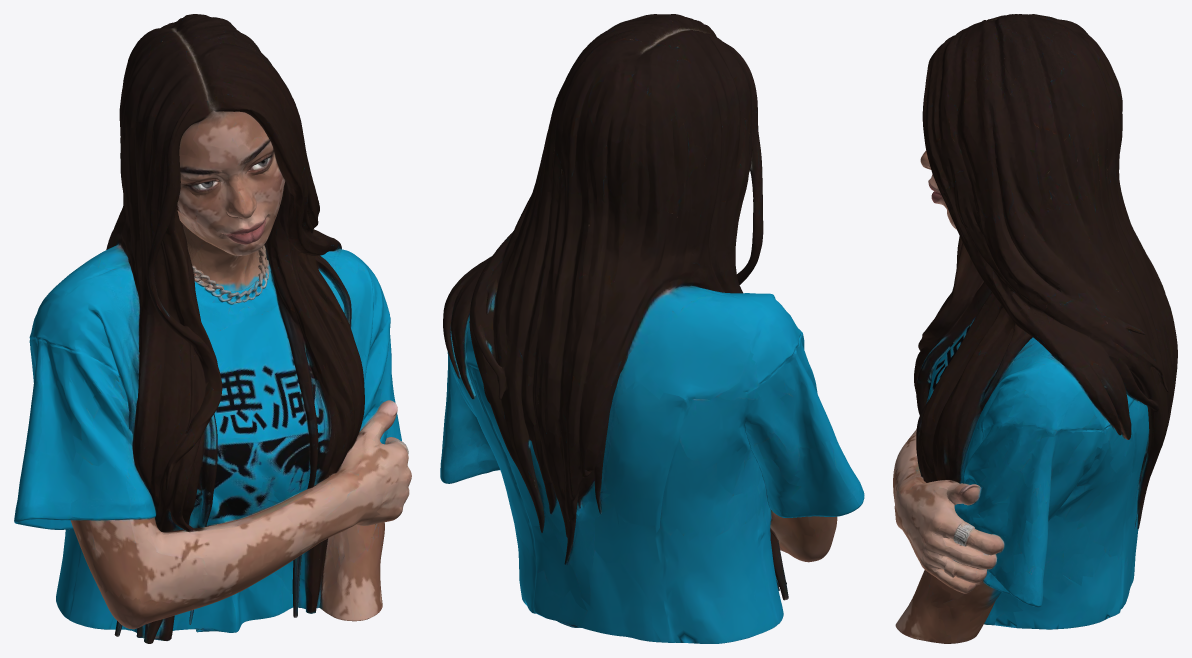
3 renders of one model, left to right at view 1: azimuth 30°, elevation 25°; view 2: azimuth 150°, elevation 25°; view 3: azimuth 270°, elevation 25°, orthographic. The views are drawn at different scales.
Visible parts, largest first — view 1: mesh_node; view 2: mesh_node; view 3: mesh_node.
Boxes of the visible parts, <box> form: mesh_node: <box>14,14,411,643</box>; mesh_node: <box>440,14,864,643</box>; mesh_node: <box>893,14,1177,643</box>.
Size of the model in its own units: 1.41 by 1.9 by 0.8763.
1 material, 1 textured.
